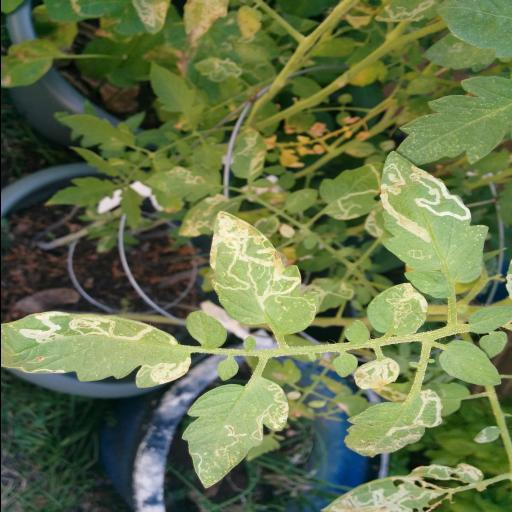Leaf Miner: (378, 147, 492, 298), (0, 312, 192, 388), (208, 210, 320, 334), (178, 379, 290, 488), (319, 463, 488, 512), (342, 389, 448, 458), (366, 284, 430, 336), (352, 358, 401, 390)
